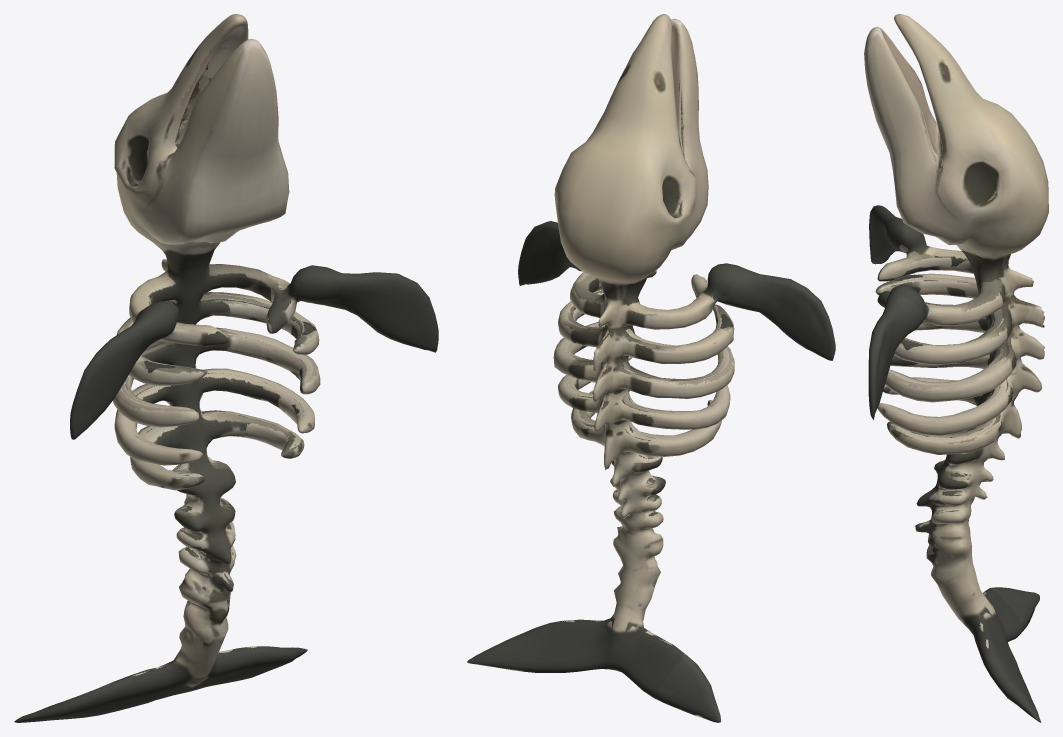
Rendered from Bake_Kujira3.glb.
The picture shows the model from 3 angles, left to right: view 1: azimuth 30°, elevation 25°; view 2: azimuth 150°, elevation 25°; view 3: azimuth 270°, elevation 25°; orthographic projection. The views are drawn at different scales.
Visible parts, largest first — view 1: Retopo_Bake-kujira3.001; view 2: Retopo_Bake-kujira3.001; view 3: Retopo_Bake-kujira3.001.
Part boxes in pixels (x1,y1,x2,y2): Retopo_Bake-kujira3.001: (14, 14, 438, 722); Retopo_Bake-kujira3.001: (467, 14, 835, 722); Retopo_Bake-kujira3.001: (864, 14, 1048, 722).
Bounding box in the file's own units: 1.03 × 1.95 × 0.5055.
1 material, 1 textured.
